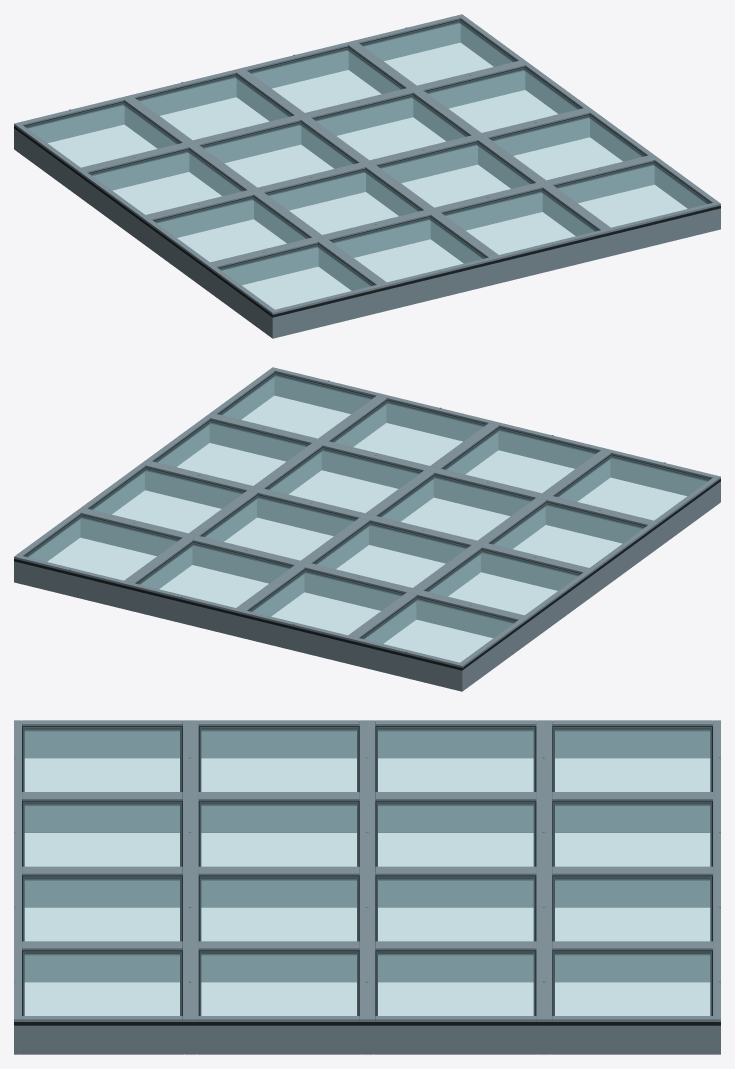
3 views of the same model, one above another, from view 1: azimuth 30°, elevation 25°; view 2: azimuth 150°, elevation 25°; view 3: azimuth 270°, elevation 25° (orthographic). The views are drawn at different scales.
Parts seen in each view (by area): view 1: EXPORT_GLASS_Panes, EXPORT_FRAME_Steel, EXPORT_SEAL_Graphite; view 2: EXPORT_GLASS_Panes, EXPORT_FRAME_Steel, EXPORT_SEAL_Graphite; view 3: EXPORT_GLASS_Panes, EXPORT_FRAME_Steel, EXPORT_SEAL_Graphite.
Boxes of the visible parts, x1,y1,x2,y2 form: EXPORT_GLASS_Panes: (25,20,709,309); EXPORT_FRAME_Steel: (14,14,720,338); EXPORT_SEAL_Graphite: (14,19,720,317); EXPORT_GLASS_Panes: (25,373,709,662); EXPORT_FRAME_Steel: (14,367,720,691); EXPORT_SEAL_Graphite: (14,372,720,670); EXPORT_GLASS_Panes: (23,727,711,1015); EXPORT_FRAME_Steel: (14,720,720,1054); EXPORT_SEAL_Graphite: (14,726,720,1025).
Size of the model in its own units: 4 by 0.224 by 4.
